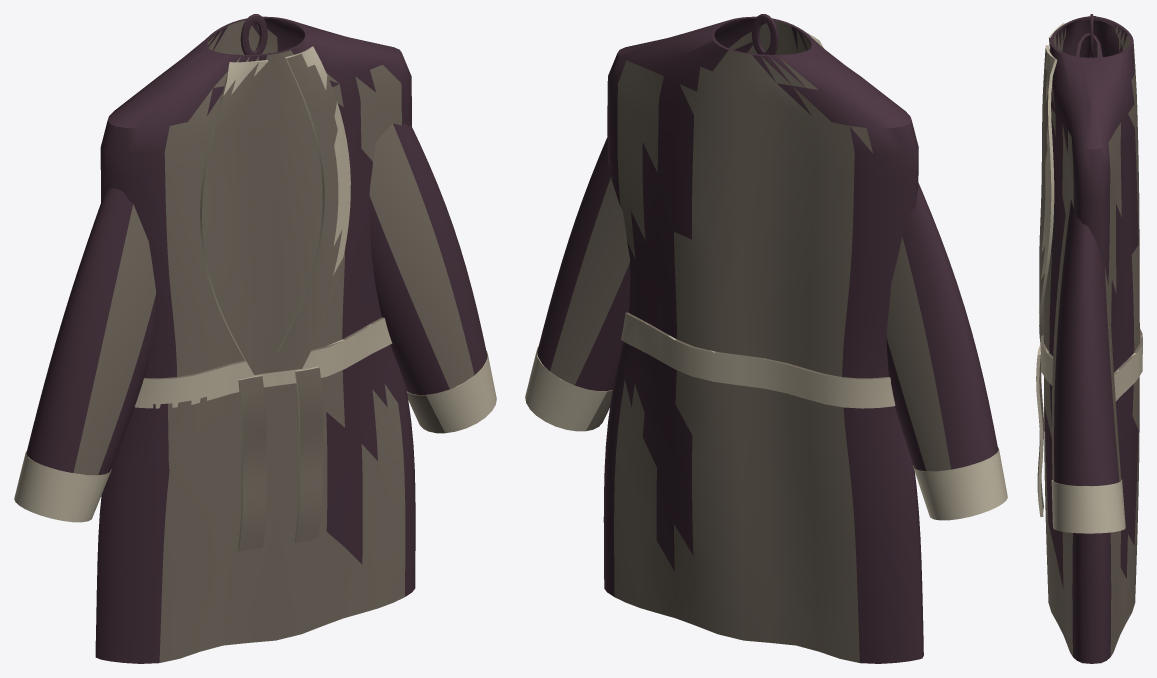
Rendered from bath-robe-on-hook-7153bf5c6354.glb.
3 renders of one model, left to right at view 1: azimuth 30°, elevation 25°; view 2: azimuth 150°, elevation 25°; view 3: azimuth 270°, elevation 25°, orthographic. The views are drawn at different scales.
Visible parts, largest first — view 1: cover-cloth, cloth-plum, cloth-cream; view 2: cover-cloth, cloth-plum, cloth-cream; view 3: cloth-plum, cover-cloth, cloth-cream.
Boxes of the visible parts, <box> form: cover-cloth: <box>25,20,487,662</box>; cloth-plum: <box>26,14,487,663</box>; cloth-cream: <box>14,46,496,551</box>; cover-cloth: <box>536,20,998,662</box>; cloth-plum: <box>537,14,998,663</box>; cloth-cream: <box>525,32,1007,520</box>; cloth-plum: <box>1044,14,1138,663</box>; cover-cloth: <box>1036,26,1142,656</box>; cloth-cream: <box>1036,23,1142,533</box>.
Size of the model in its own units: 0.663 by 0.82 by 0.137.
